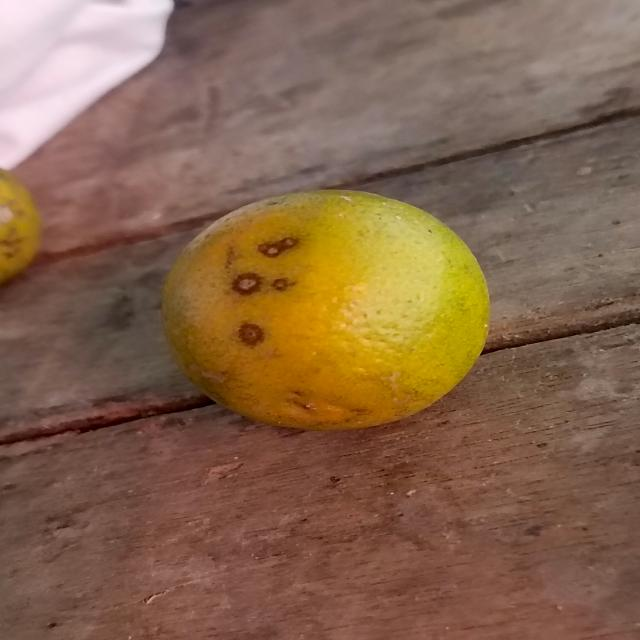black spot: (152, 182, 498, 436)
